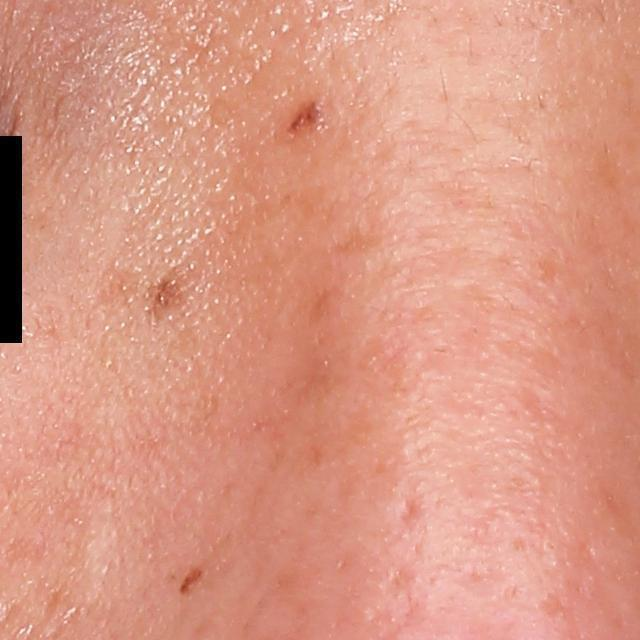atrophic_scar: (395, 485, 430, 524)
nevus: (149, 275, 181, 315)
